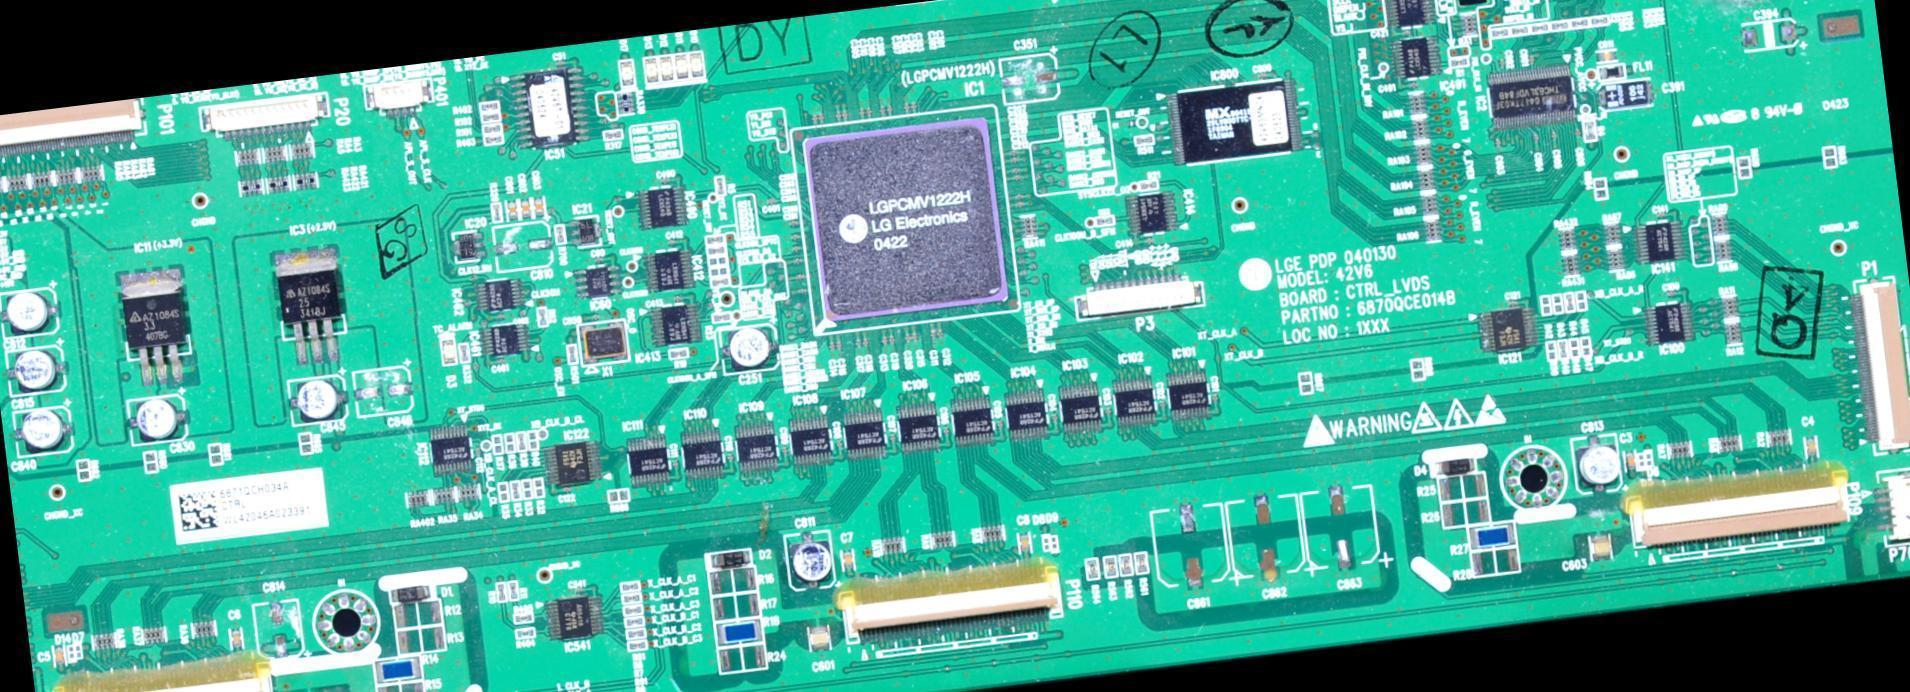Capacitor: (354, 367, 412, 415), (1574, 435, 1623, 491), (1001, 53, 1059, 101), (129, 396, 181, 444), (787, 532, 834, 585), (0, 290, 51, 336), (1327, 486, 1353, 567), (22, 409, 64, 454), (296, 377, 339, 422), (14, 349, 56, 392), (730, 327, 770, 370), (1255, 495, 1276, 575), (1178, 505, 1201, 580), (1742, 20, 1799, 48), (269, 600, 289, 657), (496, 237, 552, 254), (808, 625, 831, 652), (1590, 533, 1612, 559), (229, 628, 244, 651), (841, 549, 855, 571), (506, 200, 518, 221), (520, 199, 532, 219), (1019, 532, 1031, 553), (1597, 50, 1617, 61), (1625, 451, 1635, 473), (1806, 437, 1817, 457), (533, 197, 543, 215)
Connector: (836, 552, 1062, 657), (1629, 465, 1846, 557), (1849, 277, 1909, 464), (0, 96, 153, 163), (54, 655, 280, 691), (1076, 269, 1203, 321), (1876, 471, 1909, 547)
IC: (791, 107, 1017, 332), (1167, 76, 1302, 165), (116, 263, 199, 386), (271, 245, 352, 366), (509, 64, 592, 150), (1487, 63, 1579, 131), (1477, 306, 1537, 353), (545, 441, 603, 486), (546, 597, 602, 641), (1125, 189, 1178, 235), (950, 395, 994, 446), (637, 185, 690, 228), (429, 422, 472, 474), (650, 302, 701, 346), (1005, 389, 1049, 438), (1167, 369, 1211, 419), (842, 409, 886, 459), (897, 401, 939, 452), (626, 434, 669, 485), (1635, 221, 1684, 264), (1059, 382, 1101, 433), (790, 415, 832, 467), (646, 249, 694, 291), (1113, 375, 1156, 424), (681, 429, 724, 478), (736, 422, 777, 472), (1646, 303, 1694, 345), (1392, 35, 1440, 77), (477, 277, 525, 311), (576, 265, 624, 298), (480, 325, 528, 357), (1383, 0, 1435, 28), (453, 229, 486, 260), (571, 217, 601, 245)
Resistor: (1469, 521, 1514, 549), (1439, 473, 1485, 500), (1442, 500, 1488, 526), (709, 568, 755, 593), (712, 594, 759, 620), (1473, 548, 1518, 574), (721, 644, 765, 670), (717, 620, 762, 645), (930, 529, 955, 550), (980, 525, 1005, 544), (881, 536, 906, 554), (94, 631, 116, 650), (236, 147, 259, 165), (1669, 441, 1692, 458), (617, 91, 636, 112), (293, 171, 315, 188), (1562, 253, 1579, 275), (142, 627, 164, 644), (1767, 429, 1790, 446), (291, 141, 314, 157), (1736, 156, 1752, 179), (608, 488, 631, 504), (1722, 296, 1739, 317), (31, 171, 52, 187), (1462, 14, 1478, 35), (1416, 143, 1431, 164), (1713, 215, 1728, 236), (1725, 322, 1741, 343), (193, 621, 214, 637), (1718, 435, 1740, 451), (55, 167, 76, 183), (265, 146, 286, 162), (268, 177, 289, 193), (1421, 194, 1437, 215), (1560, 228, 1576, 249), (407, 490, 428, 506), (5, 175, 27, 190), (1410, 92, 1425, 114), (1605, 222, 1620, 244), (299, 433, 313, 454), (434, 487, 455, 502), (457, 485, 479, 500), (1103, 556, 1117, 577), (1607, 248, 1623, 268), (81, 165, 101, 179), (241, 180, 262, 195), (1413, 117, 1428, 138), (1022, 216, 1037, 236), (1822, 146, 1837, 167), (144, 451, 158, 471), (1411, 358, 1425, 379), (1583, 118, 1597, 140), (209, 444, 223, 465), (1715, 241, 1731, 260), (1418, 169, 1432, 189), (1424, 219, 1439, 239), (75, 459, 90, 479), (495, 581, 508, 602), (620, 580, 641, 593), (1119, 555, 1133, 576), (1135, 553, 1149, 574), (627, 639, 648, 652), (1594, 177, 1607, 198), (1558, 338, 1570, 360), (623, 604, 644, 616), (1300, 373, 1313, 392), (1529, 22, 1550, 34), (708, 255, 728, 267), (566, 343, 578, 364), (492, 434, 504, 454), (1546, 340, 1558, 361), (1086, 559, 1099, 580), (482, 132, 504, 143), (1580, 335, 1591, 357), (1570, 337, 1581, 359), (624, 616, 645, 627), (1591, 14, 1610, 26), (1491, 27, 1510, 39), (490, 202, 502, 222), (1563, 293, 1575, 312), (507, 580, 519, 600), (514, 613, 534, 625), (516, 626, 536, 639), (483, 121, 504, 132), (1551, 19, 1571, 31), (537, 306, 548, 326), (669, 348, 689, 360), (1541, 295, 1552, 315), (504, 433, 515, 453), (522, 478, 533, 498), (621, 592, 642, 603), (458, 343, 470, 362), (603, 129, 623, 140), (1570, 17, 1590, 28), (1139, 180, 1158, 191), (1095, 215, 1114, 225), (1553, 292, 1564, 312), (510, 481, 521, 501), (626, 628, 646, 639), (481, 111, 500, 122), (1510, 25, 1529, 36), (527, 431, 539, 450), (498, 482, 509, 501), (707, 245, 726, 255), (709, 267, 728, 277), (1575, 291, 1585, 311), (533, 479, 543, 498), (707, 234, 724, 245), (516, 432, 528, 450), (481, 101, 499, 111), (1135, 135, 1154, 145), (712, 313, 731, 323), (711, 275, 729, 285), (555, 224, 564, 243), (503, 582, 504, 583)
